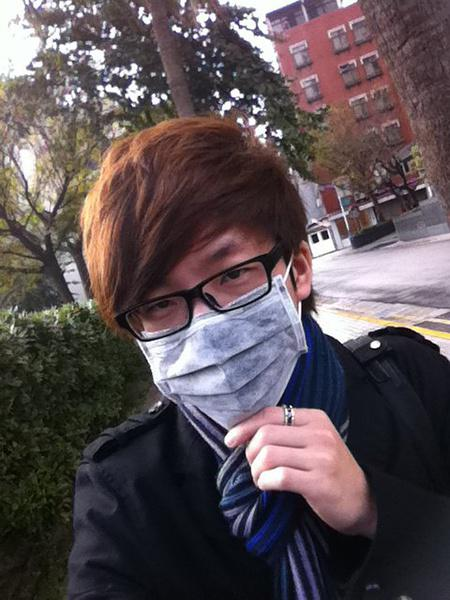OK: (132, 241, 312, 425)
